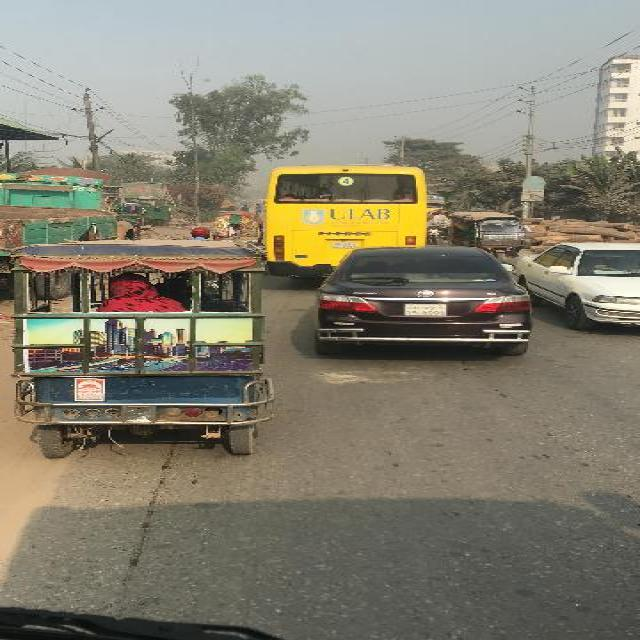bike: (427, 225, 443, 245)
vehicle: (12, 243, 282, 465), (318, 245, 535, 361), (262, 165, 433, 277), (521, 245, 640, 340), (2, 169, 142, 242), (451, 211, 525, 263), (213, 211, 263, 248), (121, 203, 141, 229), (431, 210, 453, 225)
